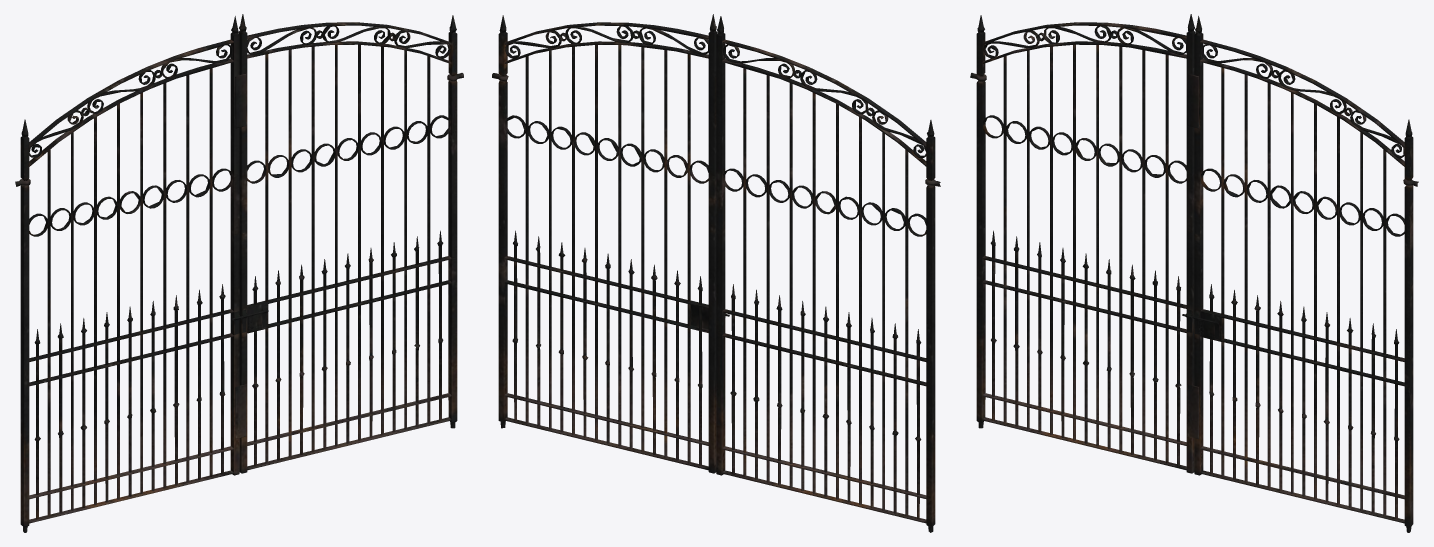
Rendered from large_iron_gate.glb.
The picture shows the model from 3 angles, left to right: view 1: azimuth 30°, elevation 25°; view 2: azimuth 150°, elevation 25°; view 3: azimuth 330°, elevation 25°; orthographic projection.
Parts seen in each view (by area): view 1: large_iron_gate_right_door, large_iron_gate_left_door; view 2: large_iron_gate_left_door, large_iron_gate_right_door; view 3: large_iron_gate_right_door, large_iron_gate_left_door.
Boxes of the visible parts, x1=… form: large_iron_gate_right_door: x1=235, y1=14, x2=457, y2=473; large_iron_gate_left_door: x1=20, y1=16, x2=240, y2=532; large_iron_gate_left_door: x1=716, y1=16, x2=935, y2=532; large_iron_gate_right_door: x1=498, y1=14, x2=717, y2=473; large_iron_gate_right_door: x1=1187, y1=16, x2=1413, y2=532; large_iron_gate_left_door: x1=976, y1=14, x2=1195, y2=473.
Bounding box in the file's own units: 2.95 × 2.93 × 0.0886.
Materials: 1 (1 with a texture image).
